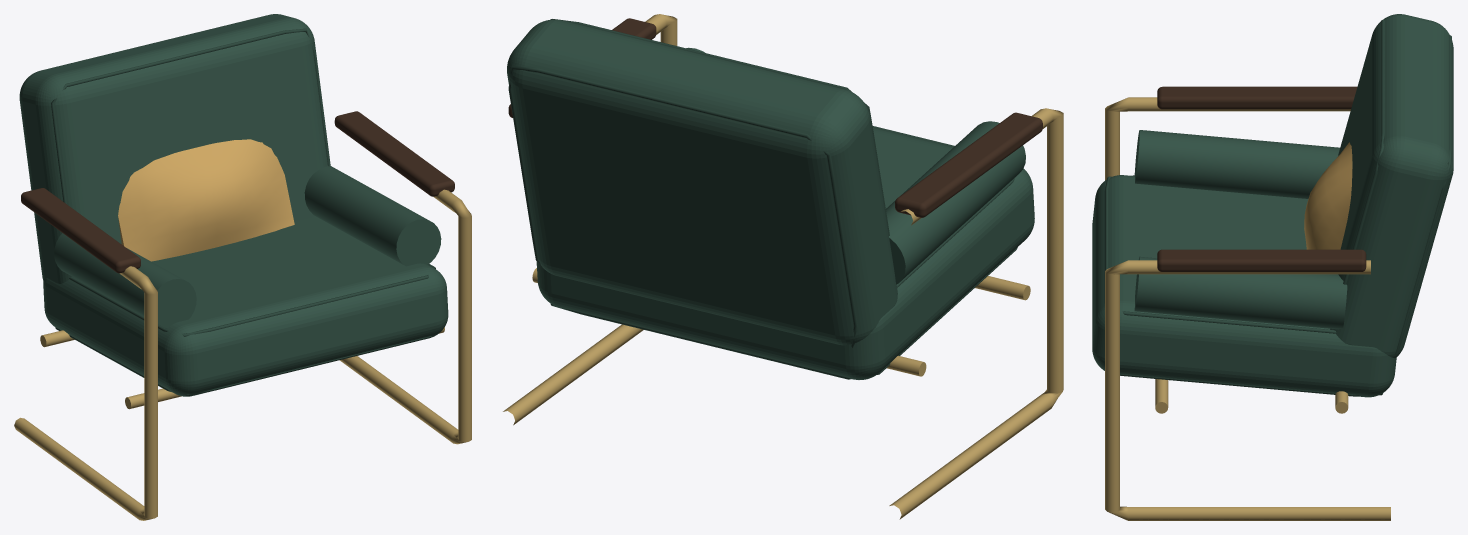
The model's file is atelier-cantilever-moss.glb.
3 renders of one model, left to right at view 1: azimuth 30°, elevation 25°; view 2: azimuth 150°, elevation 25°; view 3: azimuth 270°, elevation 25°, orthographic. The views are drawn at different scales.
Bounding box in the file's own units: 0.832 × 0.801 × 0.7221.
